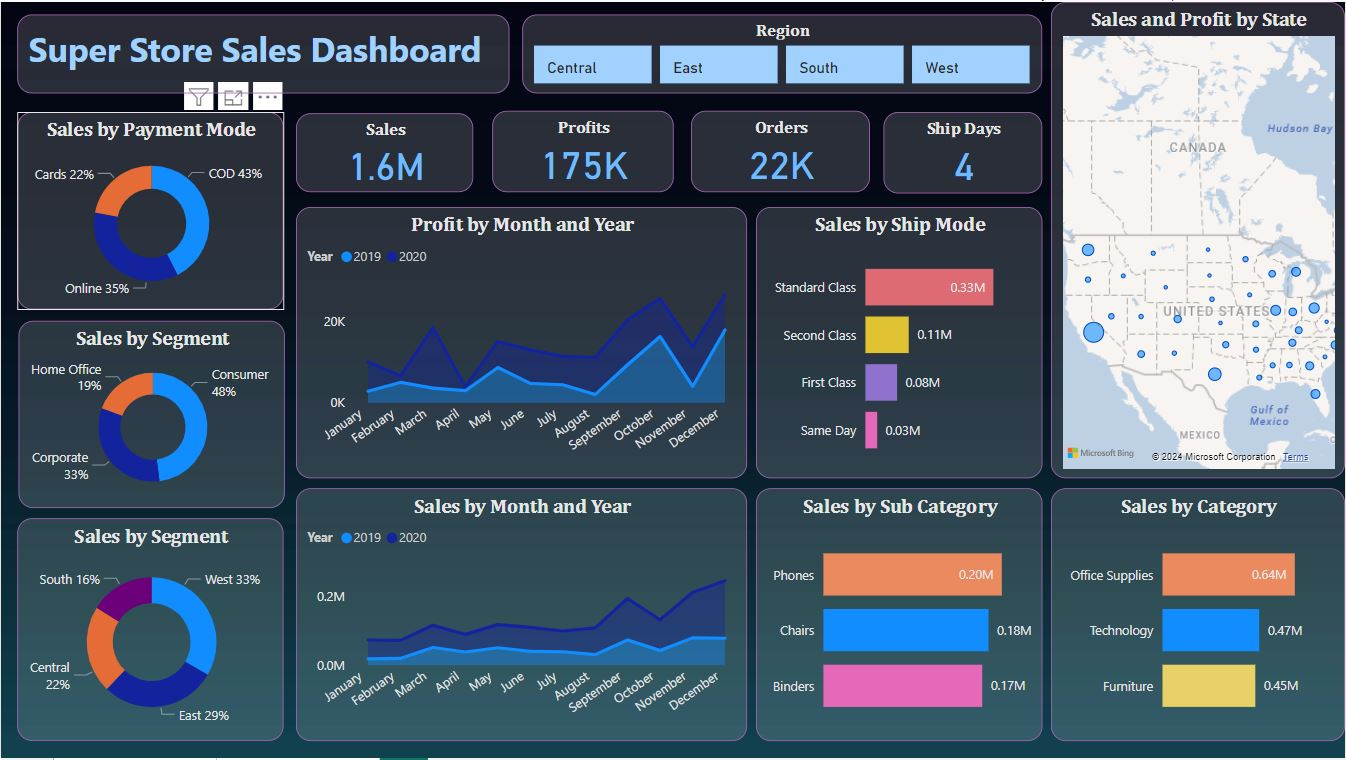

What the dashboard file says about the page in this screenshot:
{"tool":"powerbi","page":{"name":"Main Dashboard","canvas":[1280,720],"ordinal":0},"visuals":[{"type":"clusteredBarChart","title":"Sales by Category","fields":{"Category":["SuperStore_Sales_Dataset.Category"],"Y":["Sum(SuperStore_Sales_Dataset.Sales)"]},"box":[1000,463.1,279.8,240.5],"z":0},{"type":"clusteredBarChart","title":"Sales by Sub Category","fields":{"Y":["Sum(SuperStore_Sales_Dataset.Sales)"],"Category":["SuperStore_Sales_Dataset.Sub-Category"]},"box":[719.1,463.1,272.6,240.5],"z":1000},{"type":"clusteredBarChart","title":"Sales by Ship Mode","fields":{"Y":["Sum(SuperStore_Sales_Dataset.Sales)"],"Category":["SuperStore_Sales_Dataset.Ship Mode"]},"box":[719.1,195.2,272.6,258.3],"z":2000},{"type":"stackedAreaChart","title":"Sales by Month and Year","fields":{"Category":["SuperStore_Sales_Dataset.Order Date.Variation.Date Hierarchy.Month","SuperStore_Sales_Dataset.Order Date.Variation.Date Hierarchy.Day"],"Y":["Sum(SuperStore_Sales_Dataset.Sales)"],"Series":["SuperStore_Sales_Dataset.Order Date.Variation.Date Hierarchy.Year"]},"box":[281,463.1,429.8,240.5],"z":3000},{"type":"stackedAreaChart","title":"Profit by Month and Year","fields":{"Category":["SuperStore_Sales_Dataset.Order Date.Variation.Date Hierarchy.Month","SuperStore_Sales_Dataset.Order Date.Variation.Date Hierarchy.Day"],"Series":["SuperStore_Sales_Dataset.Order Date.Variation.Date Hierarchy.Year"],"Y":["Sum(SuperStore_Sales_Dataset.Profit)"]},"box":[281,195.2,429.8,258.3],"z":4000},{"type":"map","title":"Sales and Profit by State","fields":{"Category":["SuperStore_Sales_Dataset.State"],"Size":["Sum(SuperStore_Sales_Dataset.Sales)"]},"box":[1000,0,279.8,453.6],"z":5000},{"type":"donutChart","title":"Sales by Segment","fields":{"Category":["SuperStore_Sales_Dataset.Segment"],"Y":["Sum(SuperStore_Sales_Dataset.Sales)"]},"box":[16.7,303.6,253.6,178.6],"z":6000},{"type":"donutChart","title":"Sales by Payment Mode","fields":{"Y":["Sum(SuperStore_Sales_Dataset.Sales)"],"Category":["SuperStore_Sales_Dataset.Payment Mode"]},"box":[15.5,104.8,253.6,188.1],"z":7000},{"type":"advancedSlicerVisual","fields":{"Values":["SuperStore_Sales_Dataset.Region"]},"box":[496.4,11.9,495.2,75],"z":8000},{"type":"textbox","box":[15.5,11.9,469.1,75],"z":9000},{"type":"card","title":"Sales","fields":{"Values":["Sum(SuperStore_Sales_Dataset.Sales)"]},"box":[281,106,169,75],"z":10000},{"type":"card","title":"Orders","fields":{"Values":["Sum(SuperStore_Sales_Dataset.Quantity)"]},"box":[657.1,103.6,170.2,77.4],"z":11000},{"type":"card","title":"Profits","fields":{"Values":["Sum(SuperStore_Sales_Dataset.Profit)"]},"box":[467.9,103.6,172.6,77.4],"z":12000},{"type":"card","title":"Ship Days","fields":{"Values":["Avg(SuperStore_Sales_Dataset.AvgDelivery)"]},"box":[840.5,104.8,151.2,77.4],"z":13000},{"type":"donutChart","title":"Sales by Segment","fields":{"Y":["Sum(SuperStore_Sales_Dataset.Sales)"],"Category":["SuperStore_Sales_Dataset.Region"]},"box":[15.5,491.7,253.6,211.9],"z":13001}]}

Visuals, with their boxes in screenshot pixels (x1, y1, x2, y2), scaled from the page's 1280x720 canvas onto the 1346x760 screenshot:
"Sales by Category" clusteredBarChart: 1052 489 1345 743
"Sales by Sub Category" clusteredBarChart: 756 489 1043 743
"Sales by Ship Mode" clusteredBarChart: 756 206 1043 479
"Sales by Month and Year" stackedAreaChart: 295 489 747 743
"Profit by Month and Year" stackedAreaChart: 295 206 747 479
"Sales and Profit by State" map: 1052 0 1345 479
"Sales by Segment" donutChart: 18 320 284 509
"Sales by Payment Mode" donutChart: 16 111 283 309
advancedSlicerVisual - SuperStore_Sales_Dataset.Region: 522 13 1043 92
textbox: 16 13 510 92
"Sales" card: 295 112 473 191
"Orders" card: 691 109 870 191
"Profits" card: 492 109 674 191
"Ship Days" card: 884 111 1043 192
"Sales by Segment" donutChart: 16 519 283 743
